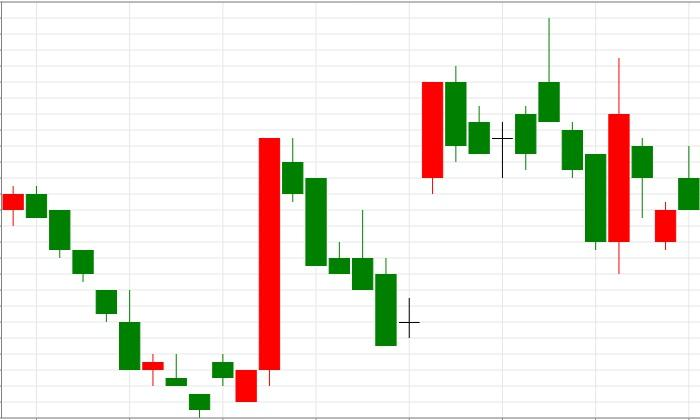bullish_engulfing_rise: (539, 18, 630, 274)
